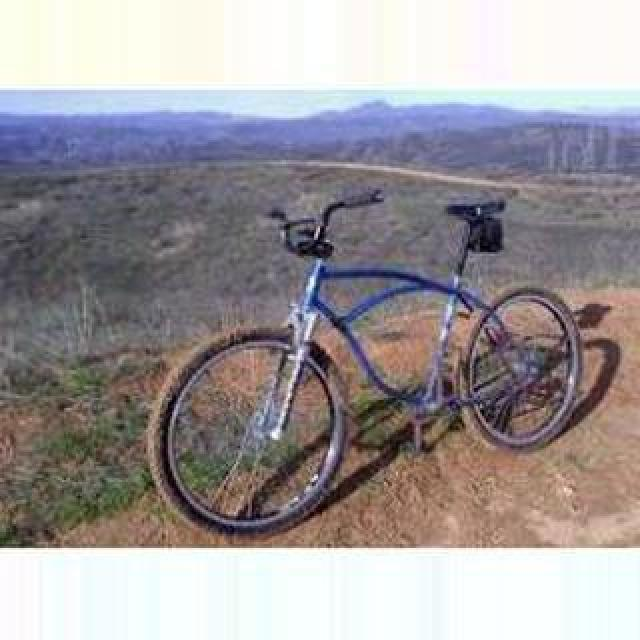Person: (150, 184, 586, 540)
